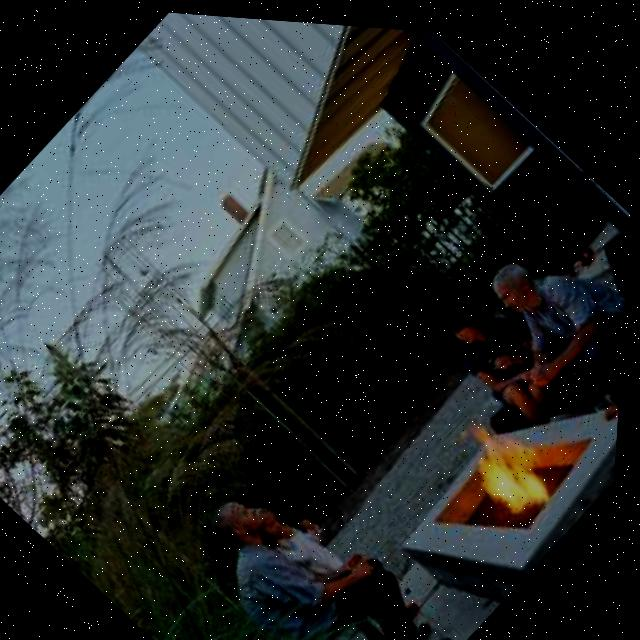Fire: (435, 397, 580, 536)
